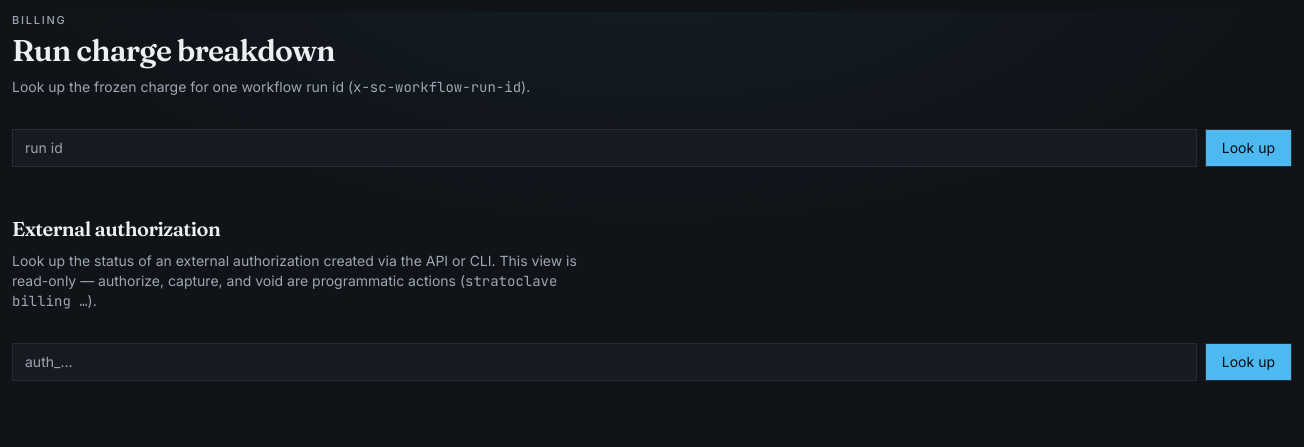
Test: MeBilling — authorization lookup error handling (authcap / PENDING protocol) › renders the authorization-error message without crashing on a 404 response
This screenshot has width=1304, height=447.
Type "auth_x" into the field named "authorization id" at {"x": 604, "y": 362}, box [12,342,1197,380]
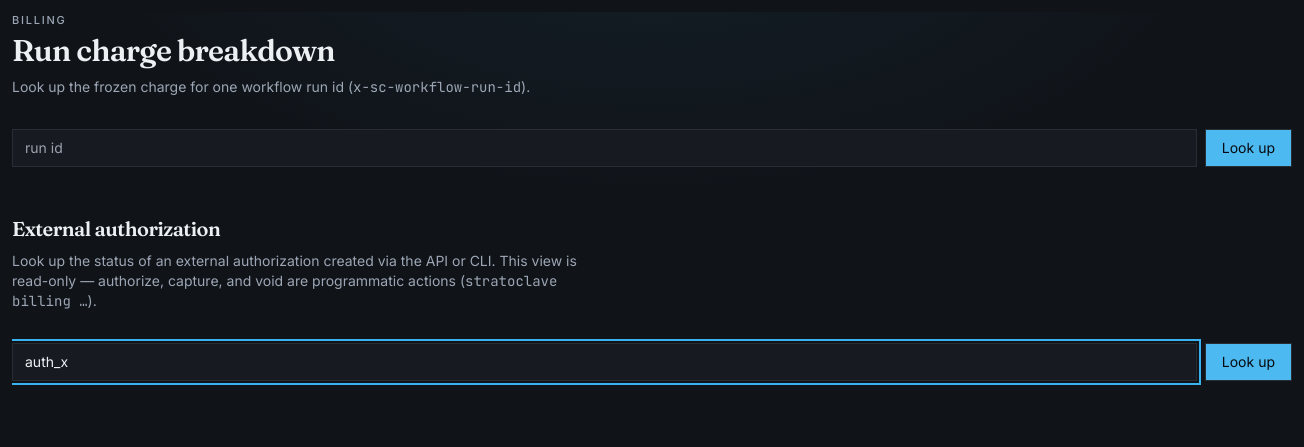
Click the 2nd button "Look up" at {"x": 1248, "y": 362}, box [1205,342,1292,380]
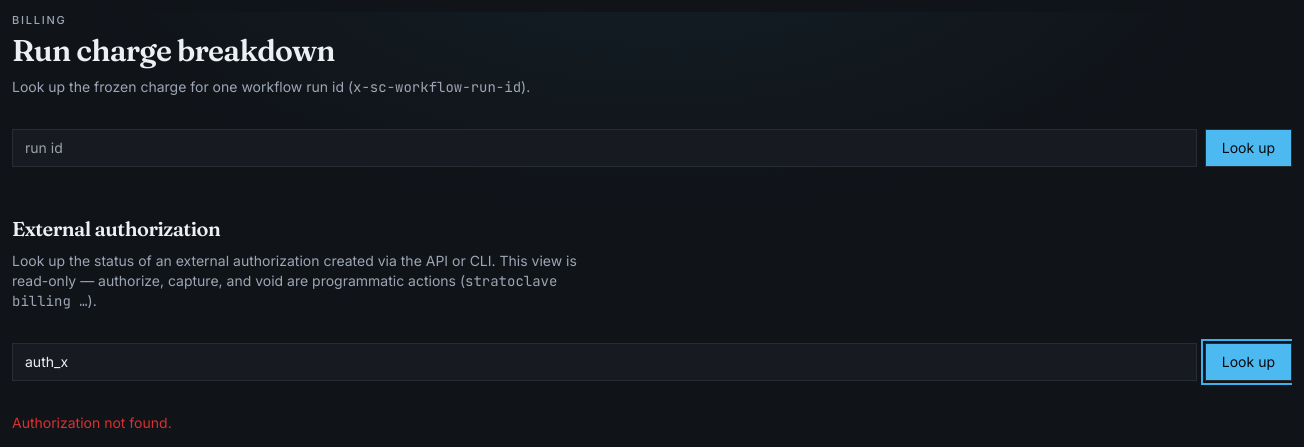
Now the text with test id "authorization-error" reads "Authorization not found.", box [12,414,172,430]
